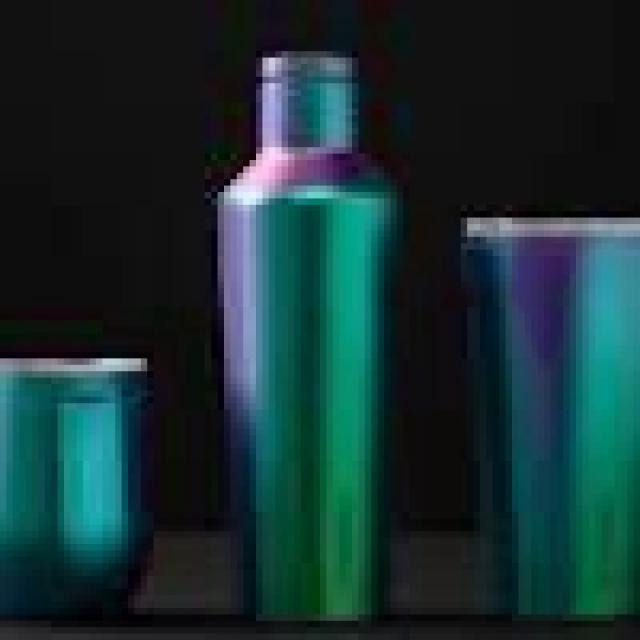bottle: (410, 141, 634, 640), (202, 45, 374, 621), (0, 313, 198, 640)
